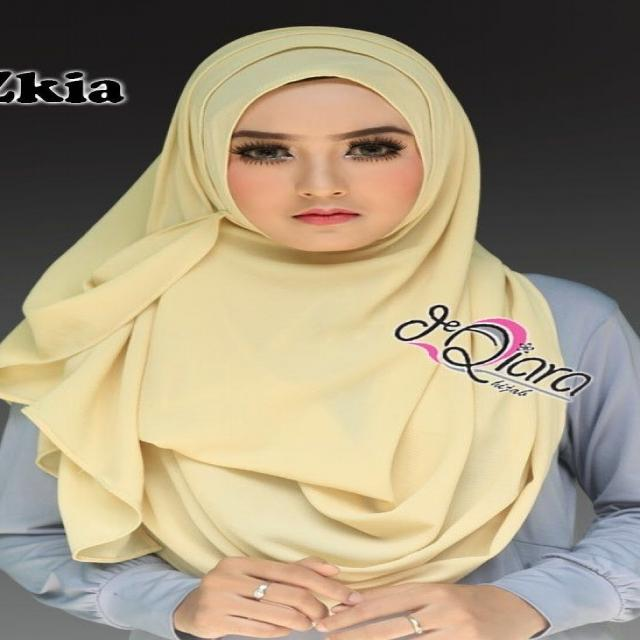head: (170, 23, 481, 270)
